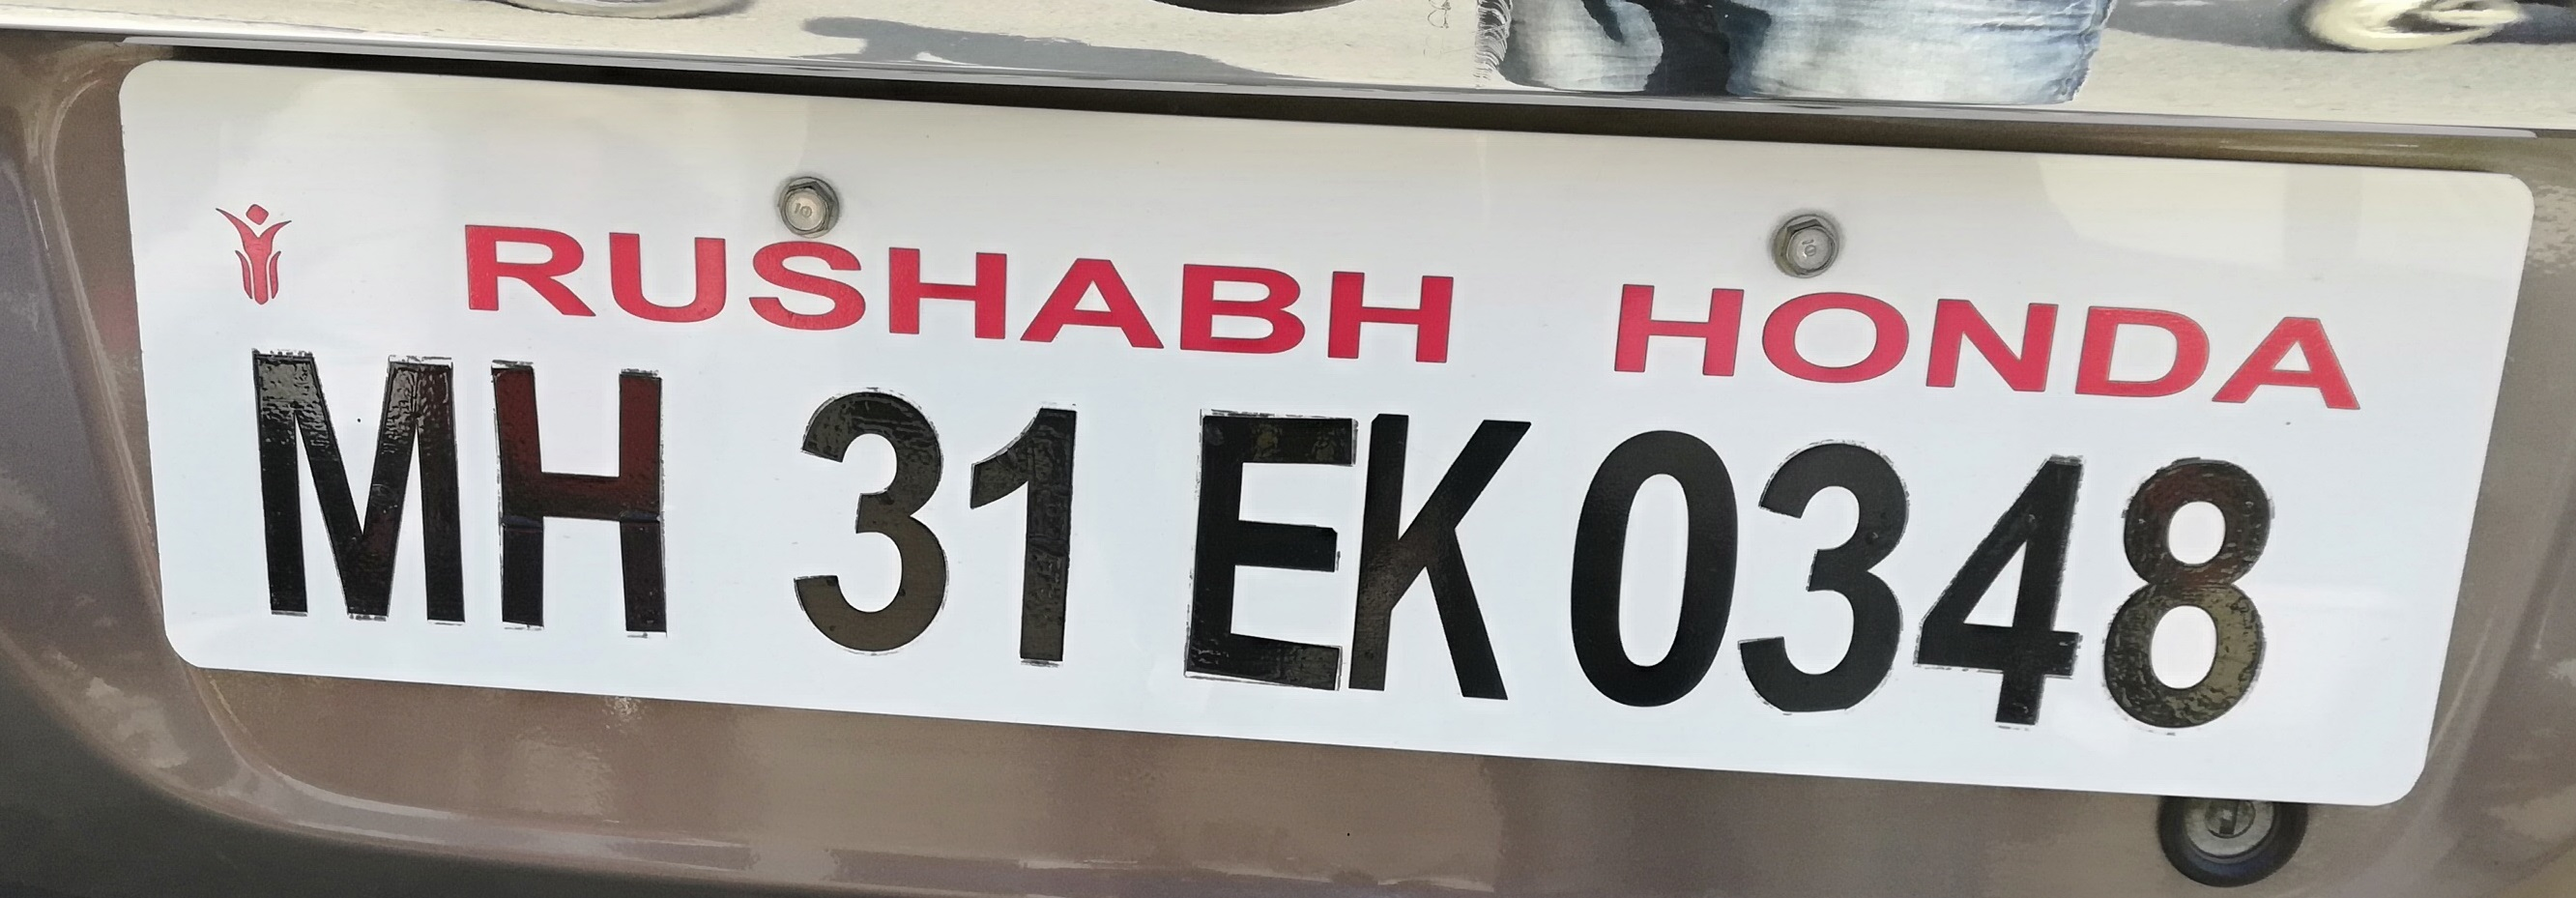numberplate: (109, 51, 2540, 809)
